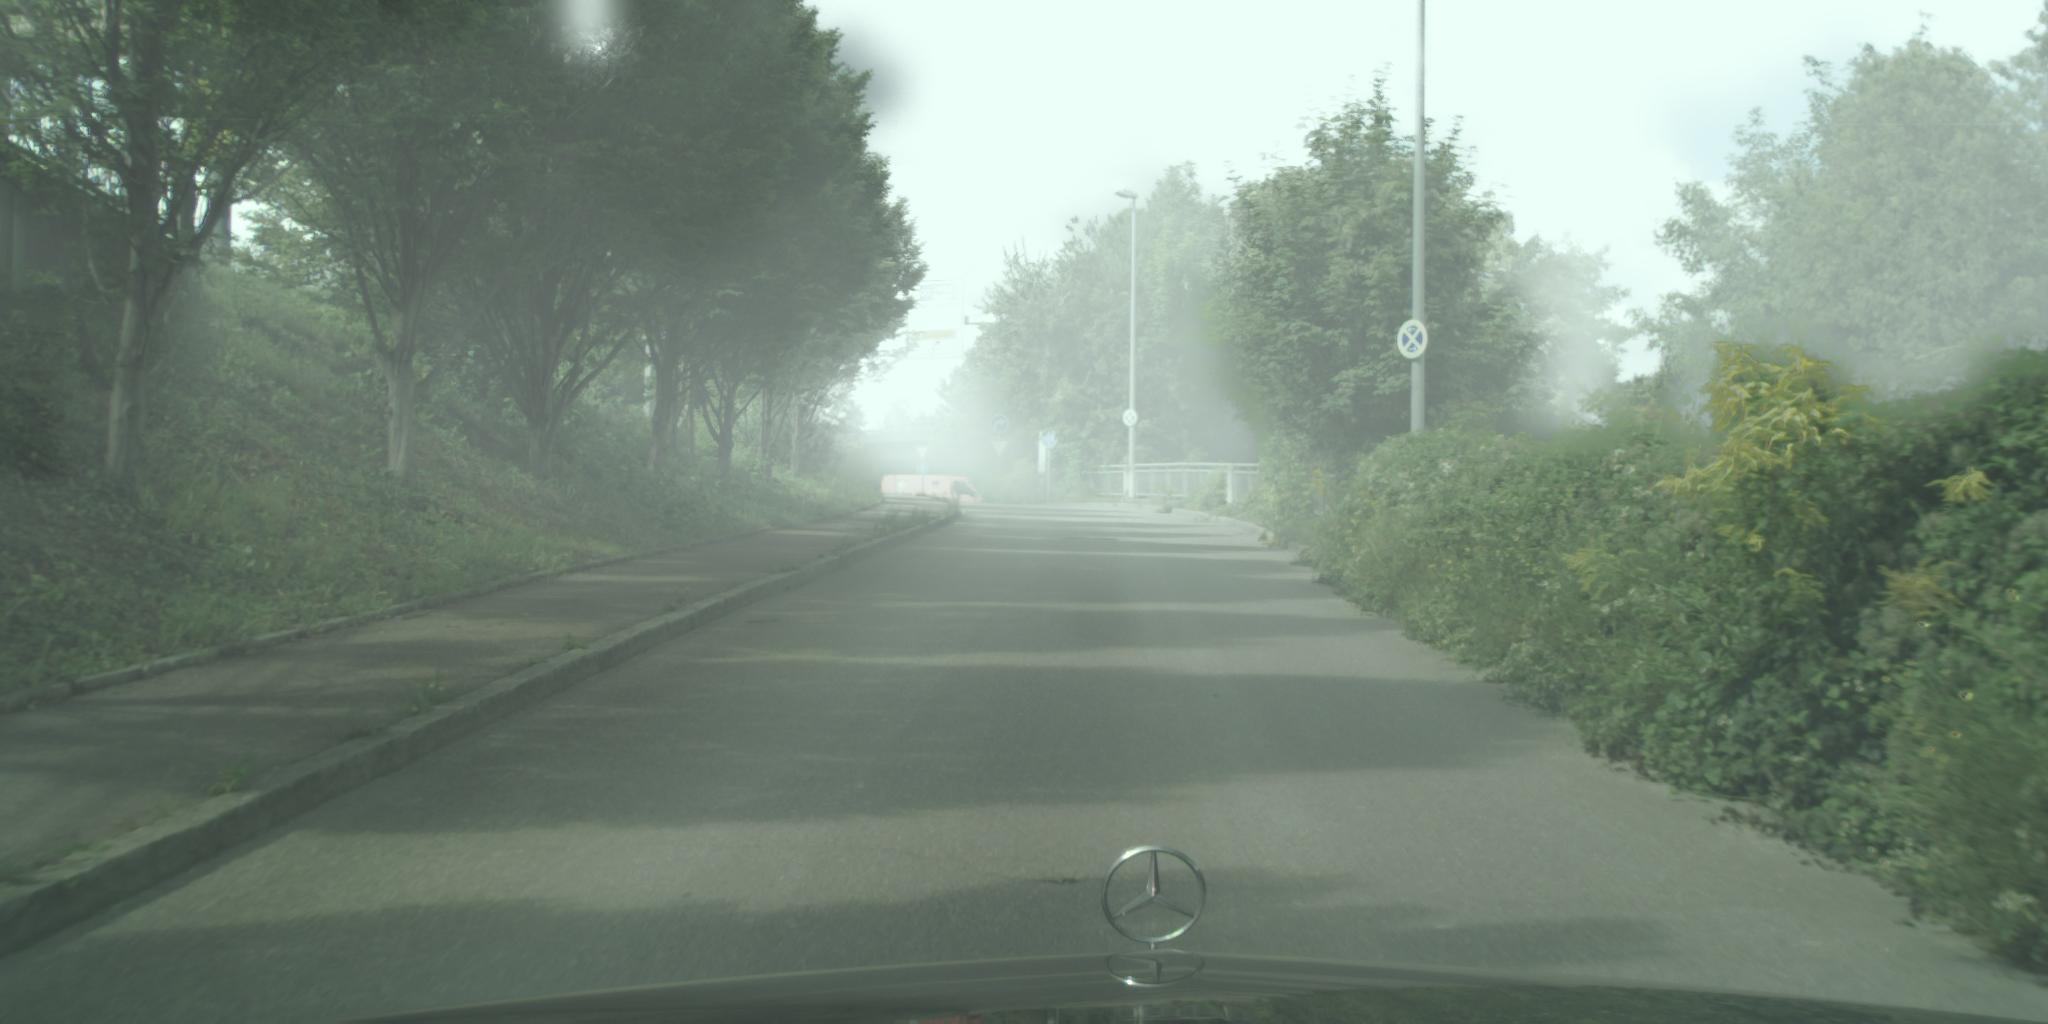car: (883, 475, 989, 515)
